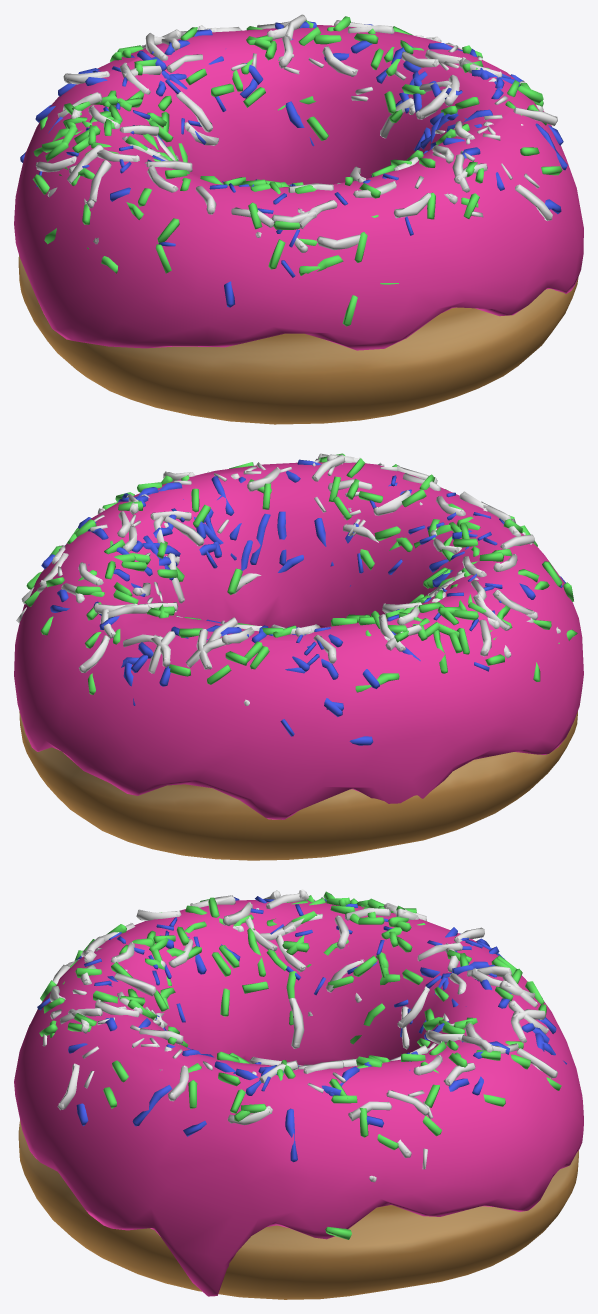
File: donut.glb
The picture shows the model from 3 angles, top to bottom: view 1: azimuth 30°, elevation 25°; view 2: azimuth 150°, elevation 25°; view 3: azimuth 270°, elevation 25°; orthographic projection. The views are drawn at different scales.
Parts seen in each view (by area): view 1: glaze, donut, topping_white, topping_yellow, topping_blue; view 2: glaze, donut, topping_white, topping_yellow, topping_blue; view 3: glaze, donut, topping_white, topping_yellow, topping_blue.
Part boxes in pixels (x1,y1,x2,y2): glaze: [14, 25, 583, 350]; donut: [18, 255, 578, 424]; topping_white: [35, 14, 557, 252]; topping_yellow: [32, 16, 562, 326]; topping_blue: [20, 21, 567, 307]; glaze: [14, 461, 583, 819]; donut: [19, 711, 577, 860]; topping_white: [16, 453, 560, 705]; topping_yellow: [24, 453, 577, 694]; topping_blue: [41, 459, 565, 745]; glaze: [14, 900, 583, 1296]; donut: [18, 1120, 578, 1299]; topping_white: [42, 889, 557, 1182]; topping_yellow: [29, 891, 561, 1239]; topping_blue: [37, 896, 566, 1162].
Size of the model in its own units: 0.1529 by 0.0712 by 0.1521.
5 materials, 1 textured.
